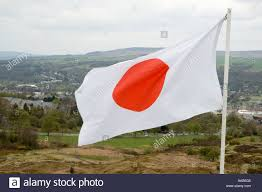Japanese Flag: (72, 15, 233, 150)
